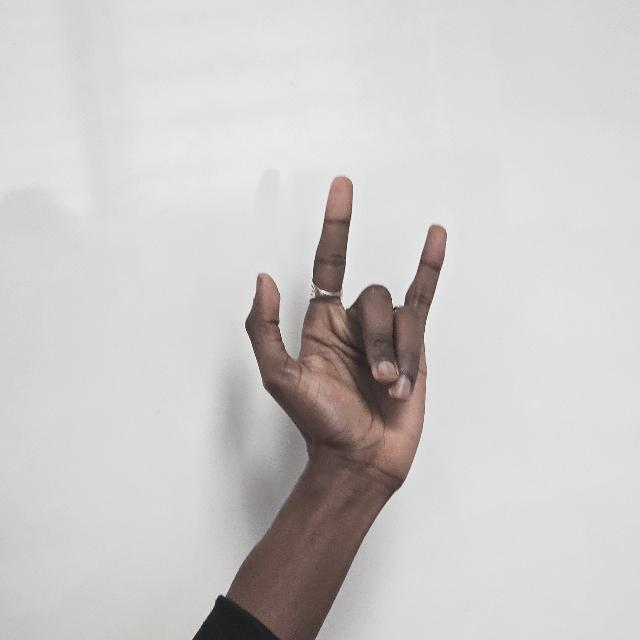Cima: (243, 176, 447, 488)
